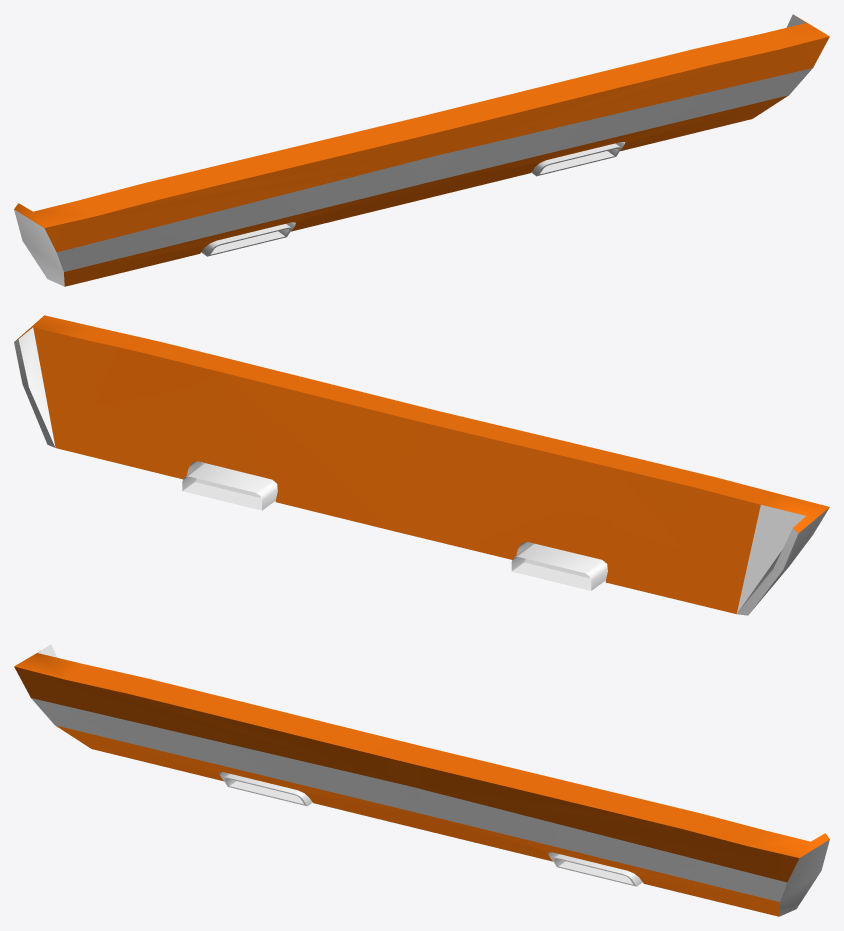
The model's file is Muscle_2_Bumper_B_2.fbx.
3 views of the same model, one above another, from view 1: azimuth 30°, elevation 25°; view 2: azimuth 150°, elevation 25°; view 3: azimuth 330°, elevation 25° (orthographic).
Visible parts, largest first — view 1: Muscle_2_Bumper_B_2; view 2: Muscle_2_Bumper_B_2; view 3: Muscle_2_Bumper_B_2.
Boxes of the visible parts, box(x1,y1,x2,y2) form: Muscle_2_Bumper_B_2: box(14, 14, 829, 286); Muscle_2_Bumper_B_2: box(14, 315, 829, 615); Muscle_2_Bumper_B_2: box(14, 644, 829, 916).
Bounding box in the file's own units: 154 × 18.09 × 17.31.
